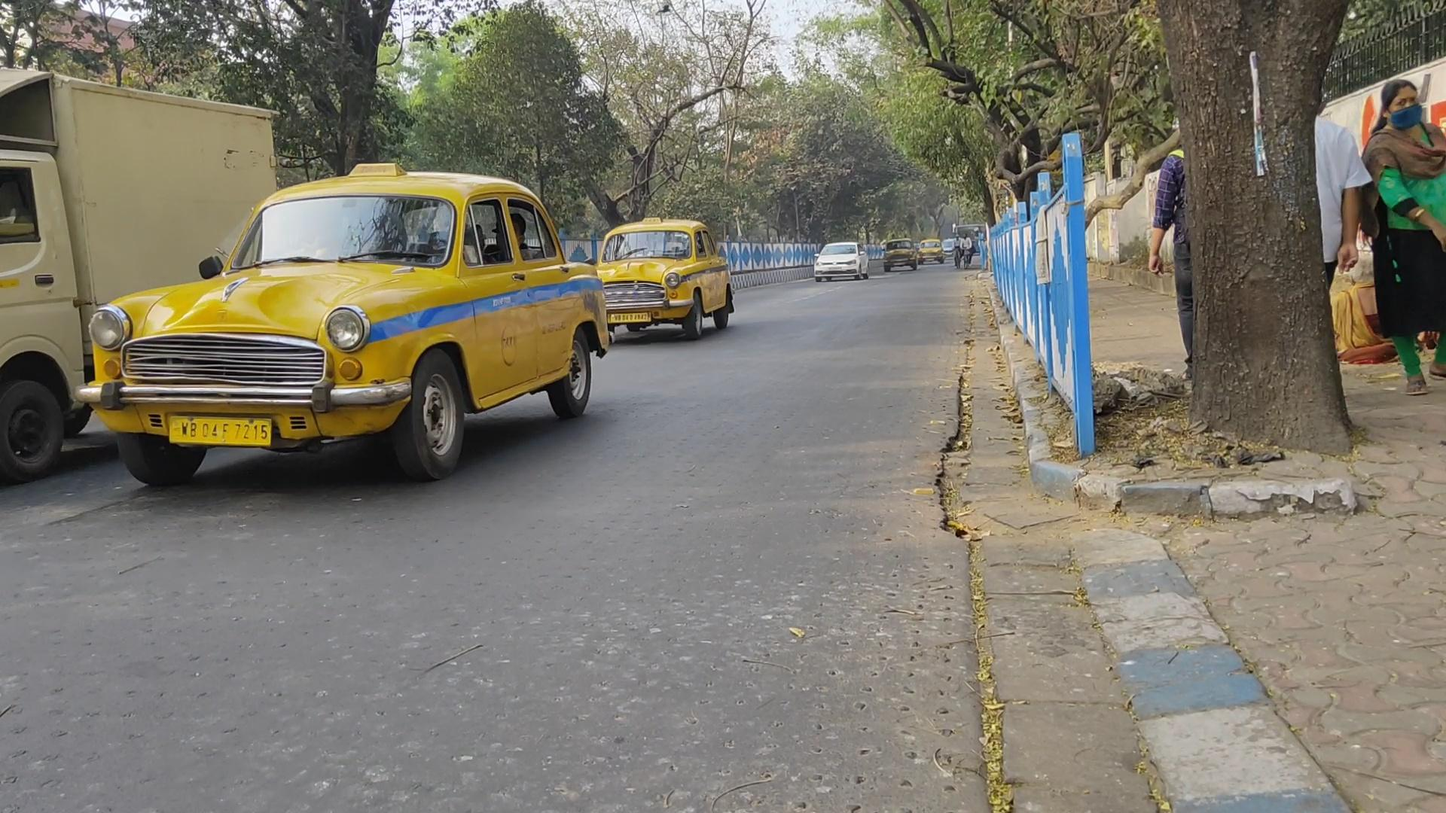bike: (960, 233, 973, 269), (953, 233, 962, 268)
car: (87, 161, 614, 483), (595, 217, 735, 342), (813, 242, 869, 282), (881, 238, 919, 273), (917, 238, 945, 266)
van: (1, 63, 279, 486)
